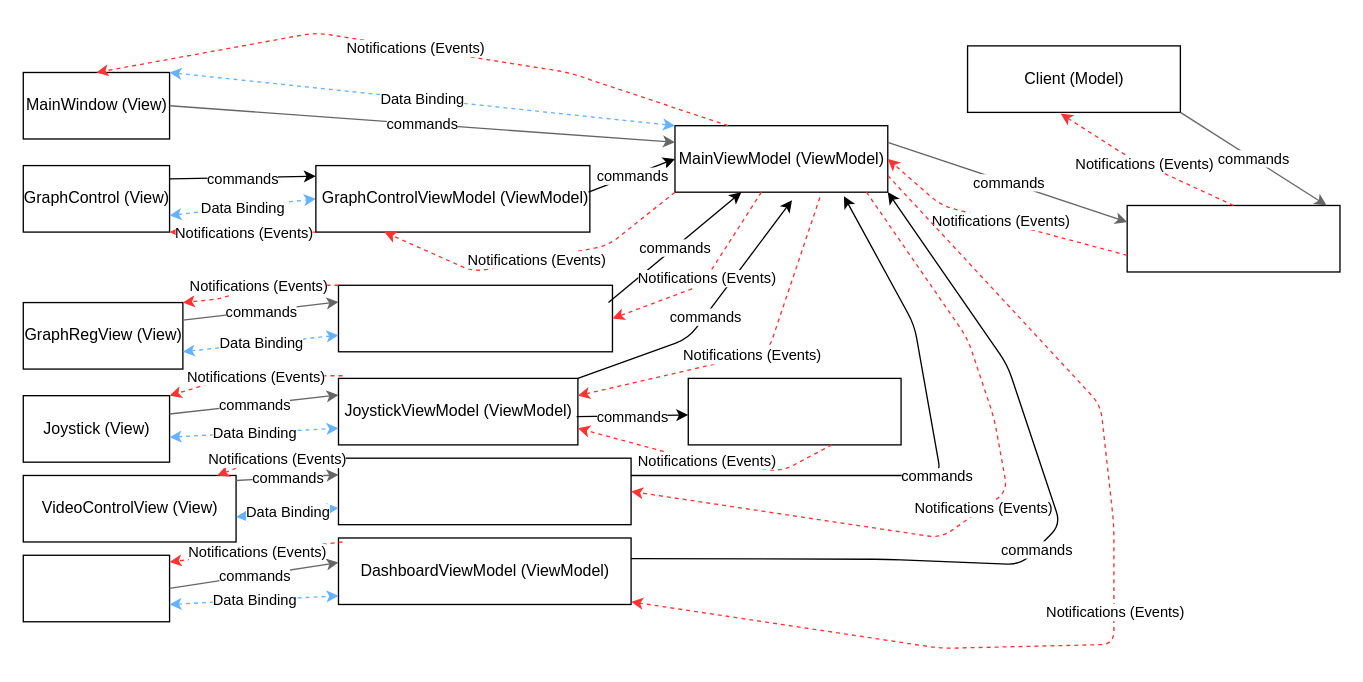
The diagram is 1363 pixels wide and 682 high, and some of its shapes have lost their labels. Here are the shapes that lost their labels. From the top down, the centre of each, then its label:
the point at 1233,238: DataFileReader (Model)
the point at 474,318: GraphRegViewModel (ViewModel)
the point at 794,411: JoystickModel (Model)
the point at 484,491: videoControlViewModel (ViewModel)
the point at 96,588: Dashboard (View)
